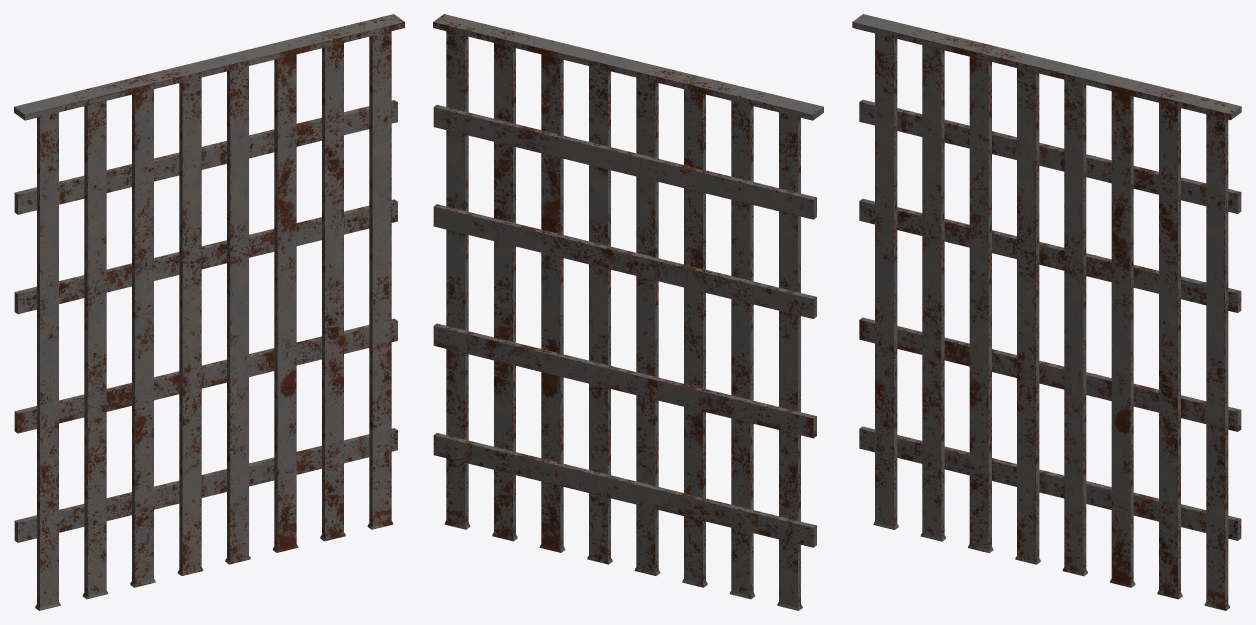
The model's file is arkham_detective_-_cage_2x4.glb.
3 renders of one model, left to right at view 1: azimuth 30°, elevation 25°; view 2: azimuth 150°, elevation 25°; view 3: azimuth 330°, elevation 25°, orthographic.
Visible parts, largest first — view 1: Cage_2x4; view 2: Cage_2x4; view 3: Cage_2x4.
Part boxes in pixels (x1,y1,x2,y2): Cage_2x4: (14, 14, 404, 610); Cage_2x4: (433, 14, 823, 610); Cage_2x4: (852, 14, 1241, 610).
Size of the model in its own units: 2 by 2.53 by 0.1.
1 material, 1 textured.
